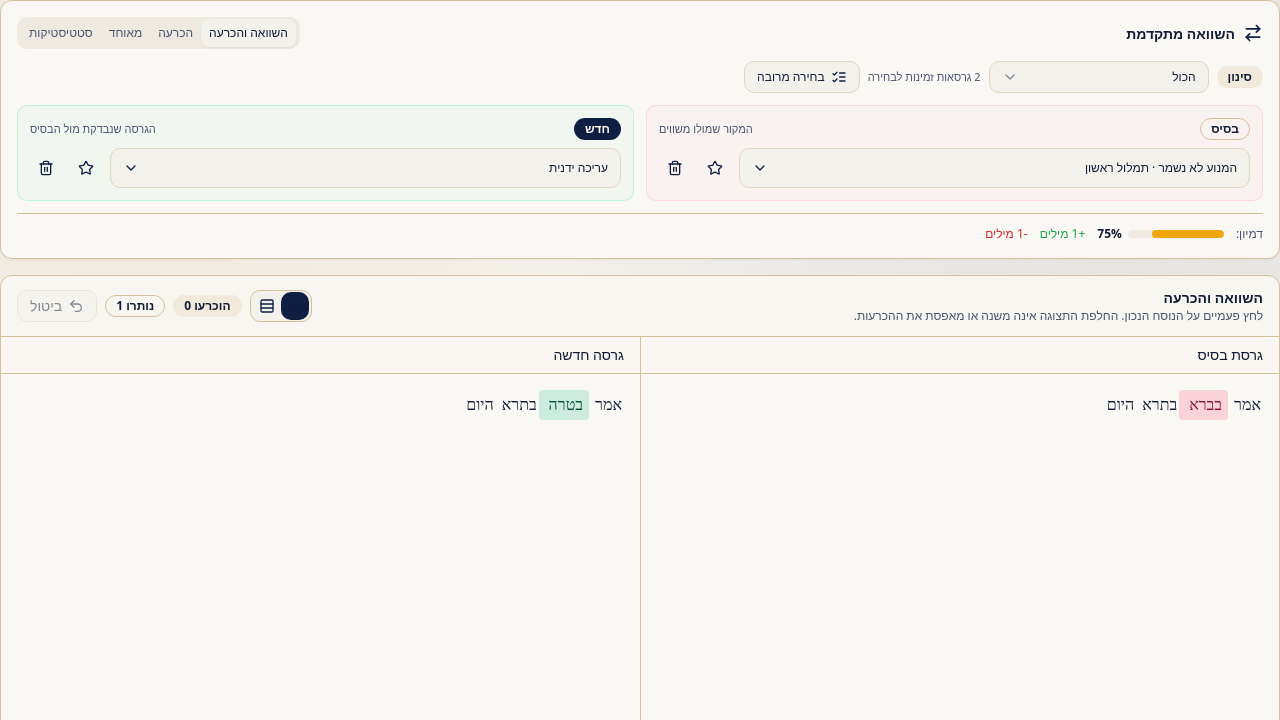
AdvancedDiffView adjudication › lets the user switch the selected source inside the quick dialog
Double-click the button titled "לחץ פעמיים לאפשרויות אישור מגרסת הבסיס".
double_click(1204, 405)  # box [1179,390,1228,420]
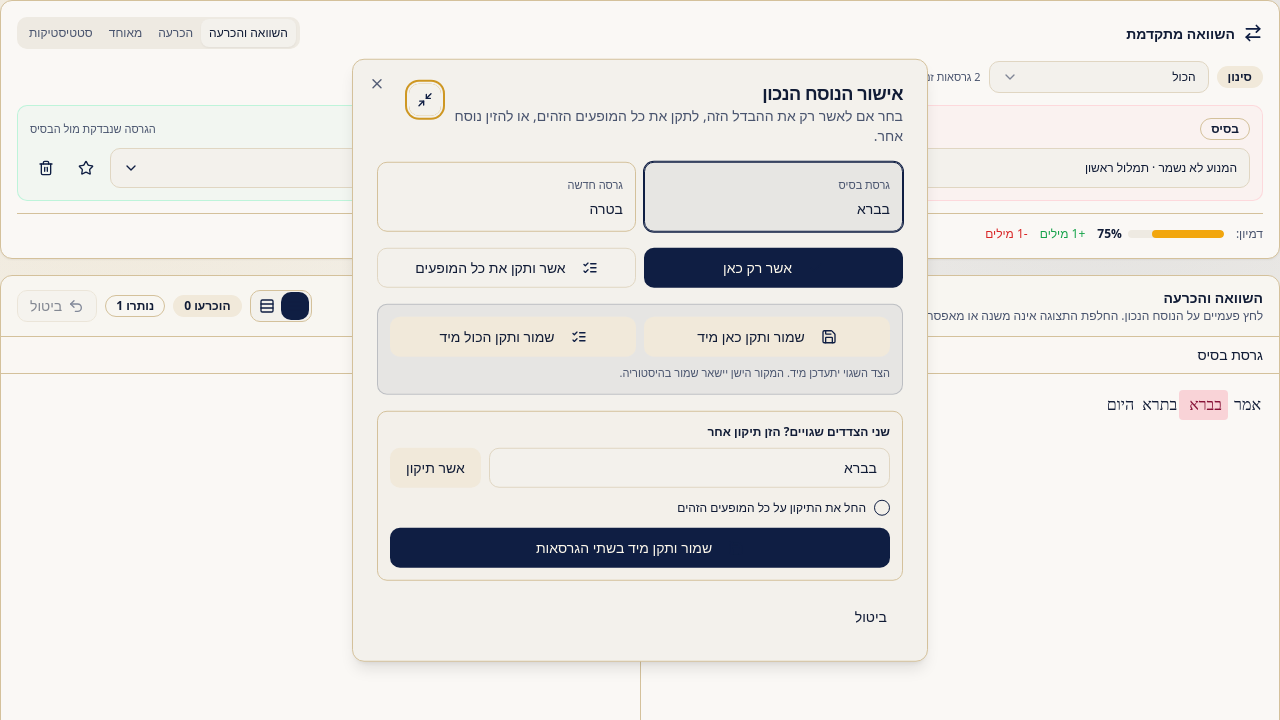
Click the button with test id "quick-source-right".
click(506, 197)  # box [377,162,636,232]
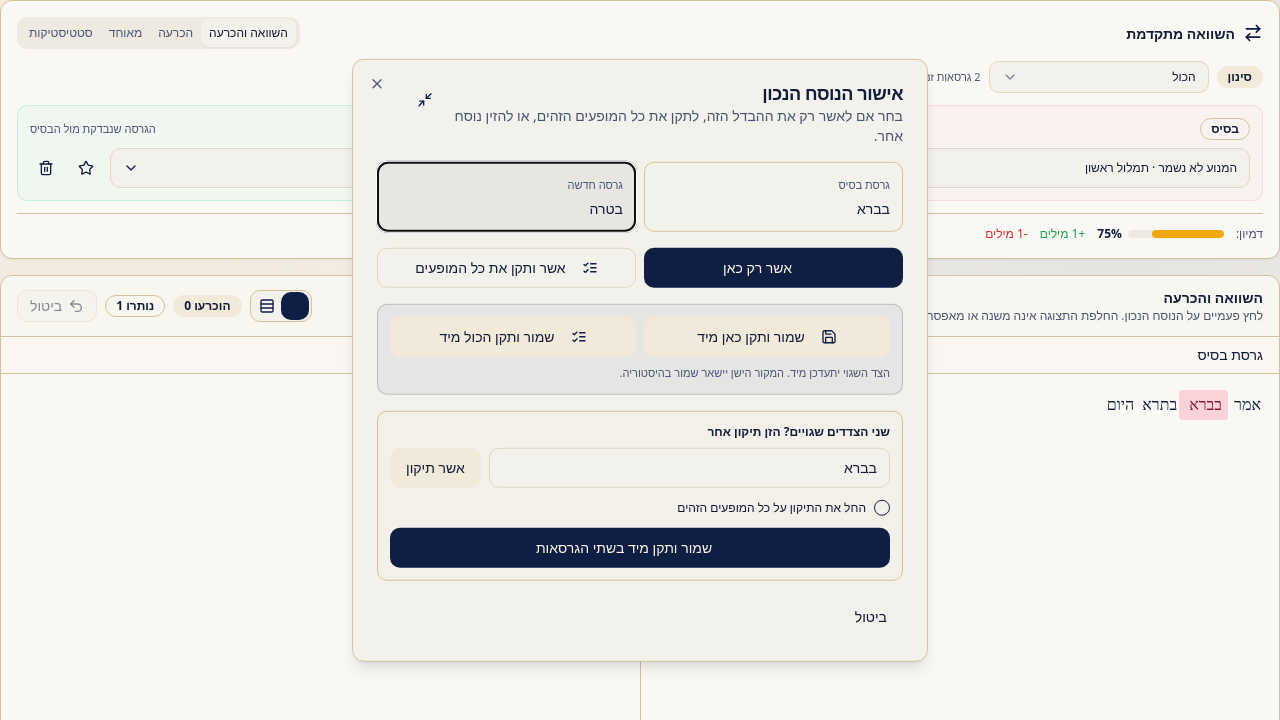
Expected: the button with test id "quick-source-right" is pressed, [377,162,636,232]
Click the button with test id "save-quick-once".
click(767, 337)  # box [644,317,890,357]
(page scrolled)
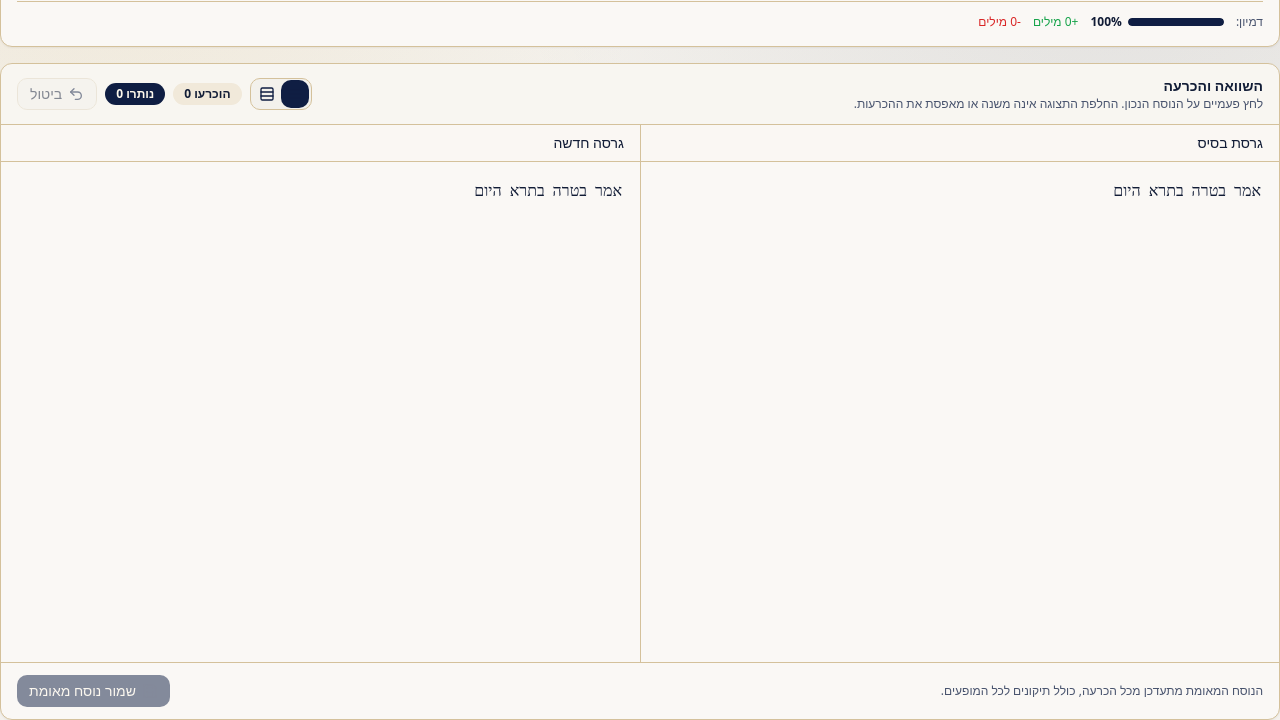
Expected: the element with test id "comparison-column-right" reads "אמר בטרה בתרא היום", [474,182,622,199]
Expected: the element with test id "comparison-column-left" reads "אמר בטרה בתרא היום", [640,162,1279,662]
